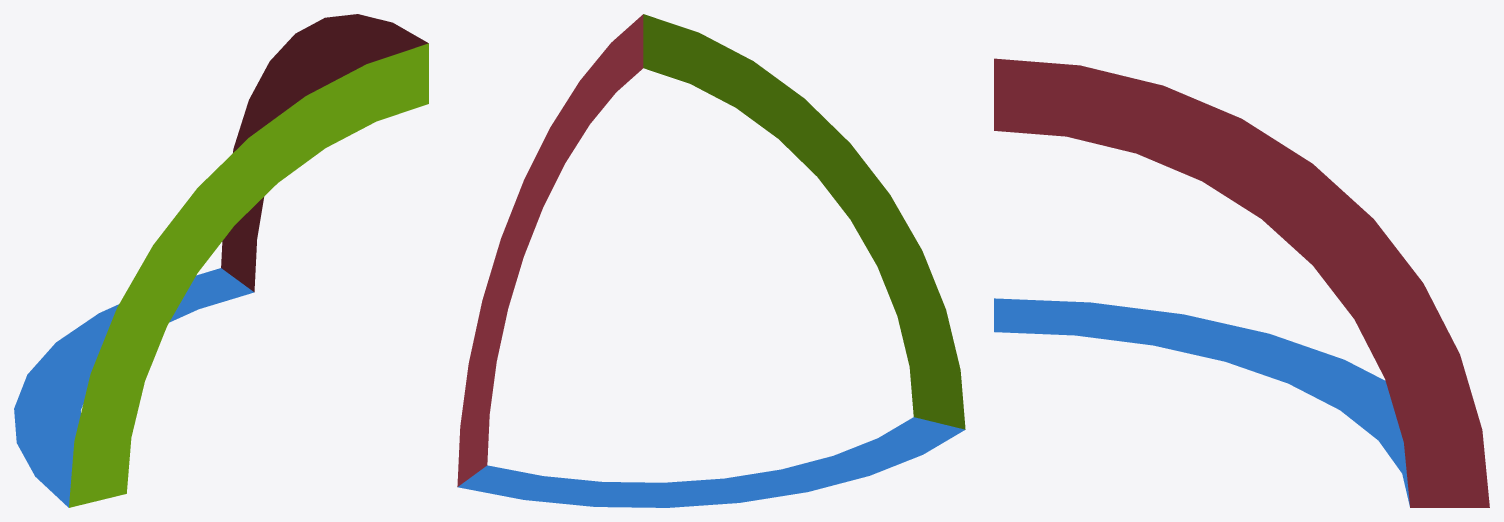
File: Rotate.fbx
3 views of the same model, side by side, from view 1: azimuth 30°, elevation 25°; view 2: azimuth 150°, elevation 25°; view 3: azimuth 270°, elevation 25° (orthographic). The views are drawn at different scales.
Parts seen in each view (by area): view 1: Y_rotate, X_rotate, Z_rotate; view 2: Y_rotate, X_rotate, Z_rotate; view 3: X_rotate, Z_rotate.
Part boxes in pixels (box(x1,y1,x2,y2)): Y_rotate: box(69, 43, 428, 507); X_rotate: box(221, 14, 428, 292); Z_rotate: box(14, 268, 253, 507); Y_rotate: box(643, 14, 965, 429); X_rotate: box(457, 14, 643, 486); Z_rotate: box(458, 417, 964, 507); X_rotate: box(994, 58, 1489, 507); Z_rotate: box(994, 298, 1409, 506).
Bounding box in the file's own units: 135 × 135 × 135.
